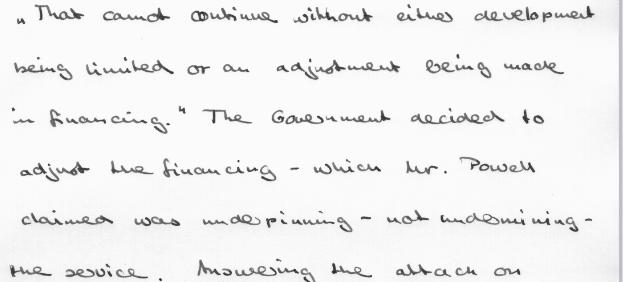text: (10, 103, 548, 137), (18, 206, 594, 236), (12, 53, 566, 83), (13, 1, 597, 29), (18, 154, 538, 185), (7, 256, 523, 282)
